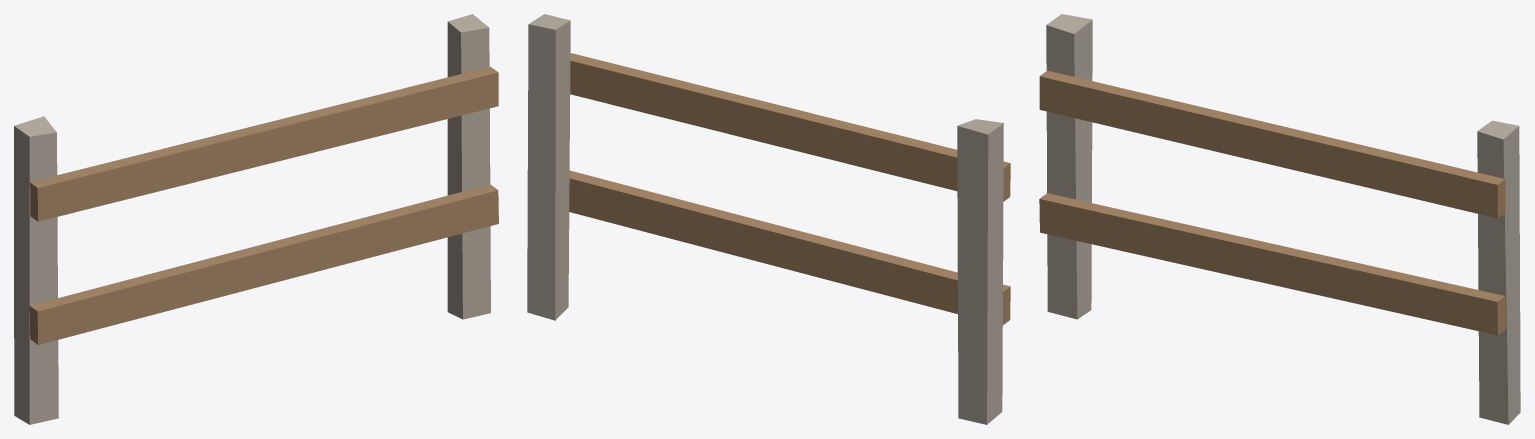
File: SM_Fence_Rail.glb
The picture shows the model from 3 angles, left to right: view 1: azimuth 30°, elevation 25°; view 2: azimuth 150°, elevation 25°; view 3: azimuth 330°, elevation 25°; orthographic projection.
Visible parts, largest first — view 1: SM_Fence_Rail; view 2: SM_Fence_Rail; view 3: SM_Fence_Rail.
Boxes of the visible parts, x1,y1,x2,y2 form: SM_Fence_Rail: (14,14,498,424); SM_Fence_Rail: (527,14,1010,424); SM_Fence_Rail: (1039,14,1520,424).
Bounding box in the file's own units: 2.01 × 1.22 × 0.1824.
